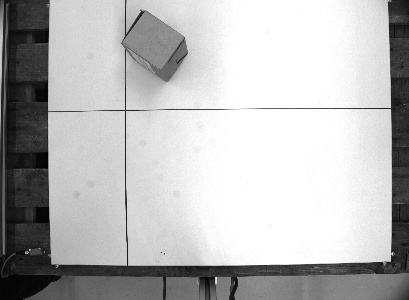b5: (118, 7, 192, 83)
